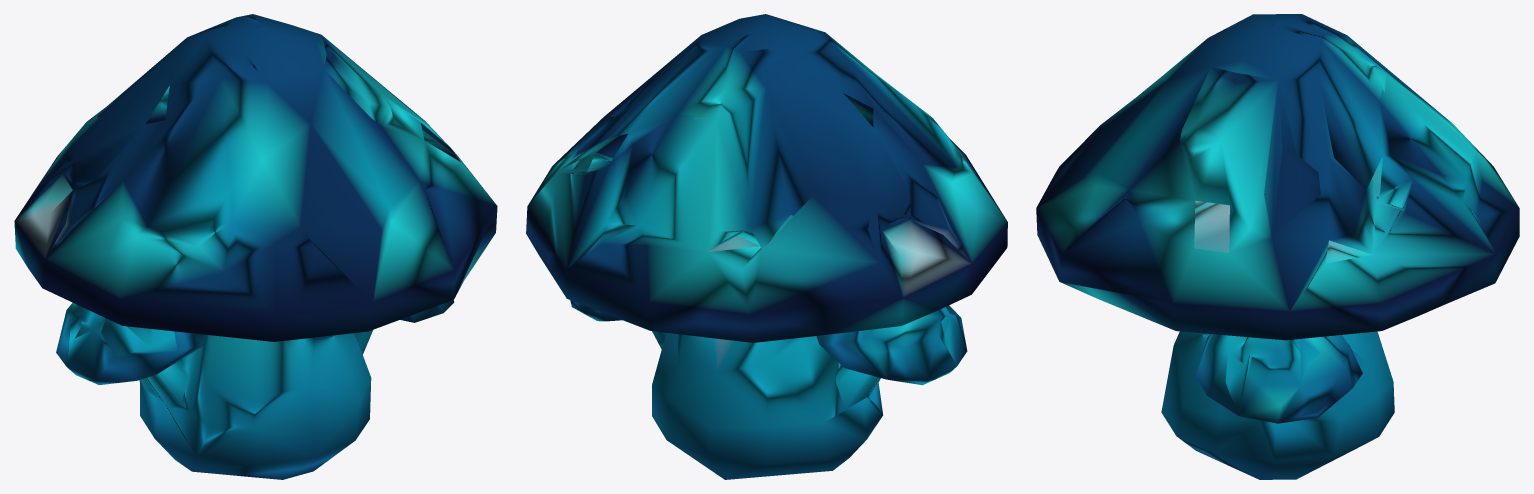
File: gen3d-glowing-mushroom-lod1.glb
3 views of the same model, side by side, from view 1: azimuth 30°, elevation 25°; view 2: azimuth 150°, elevation 25°; view 3: azimuth 270°, elevation 25° (orthographic).
Visible parts, largest first — view 1: part_0; view 2: part_0; view 3: part_0.
Part boxes in pixels (left/top/right/bottom): part_0: left=14, top=14, right=497, bottom=479; part_0: left=526, top=14, right=1007, bottom=479; part_0: left=1036, top=14, right=1519, bottom=479.
Bounding box in the file's own units: 0.9999 × 0.9977 × 1.
